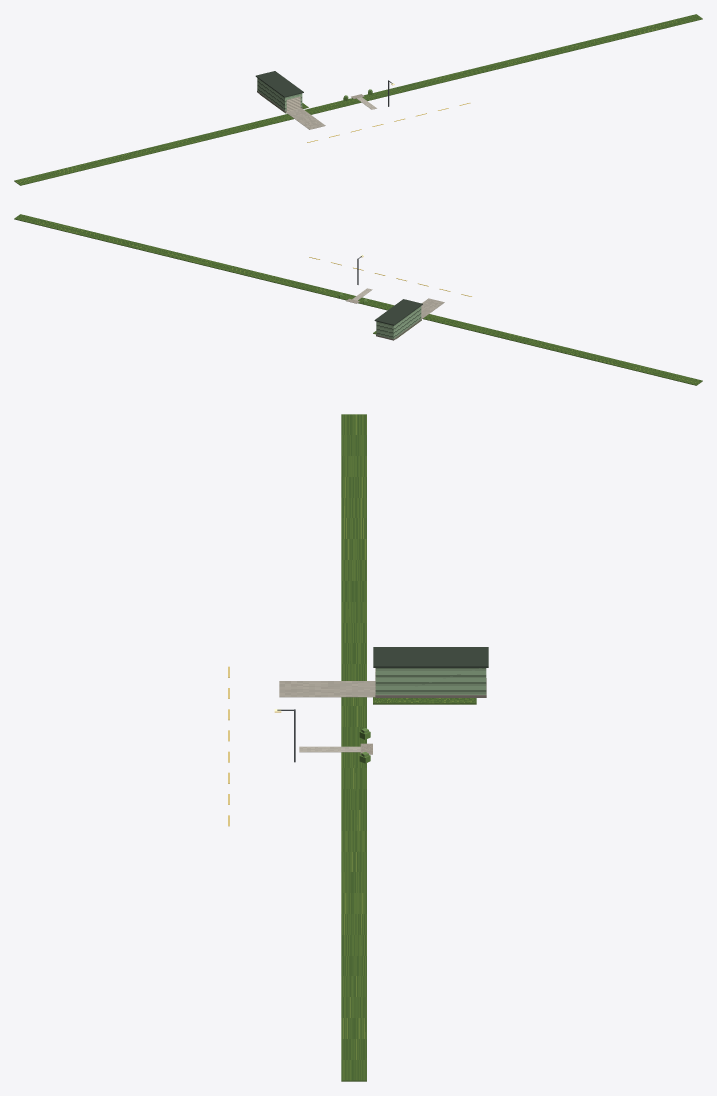
The model's file is structure.glb.
3 renders of one model, top to bottom at view 1: azimuth 30°, elevation 25°; view 2: azimuth 150°, elevation 25°; view 3: azimuth 270°, elevation 25°, orthographic. The views are drawn at different scales.
Parts seen in each view (by area): view 1: Box2, Box15, Box12, Box16; view 2: Box2, Box12, Box15; view 3: Box2, Box12, Box15, Box16.
Boxes of the visible parts, x1,y1,x2,y2 form: Box2: [14, 14, 702, 185]; Box15: [255, 71, 303, 97]; Box12: [257, 78, 302, 110]; Box16: [285, 108, 325, 129]; Box2: [14, 214, 702, 385]; Box12: [376, 306, 421, 338]; Box15: [374, 299, 422, 325]; Box2: [341, 414, 366, 1081]; Box12: [375, 668, 486, 694]; Box15: [373, 647, 488, 667]; Box16: [279, 681, 375, 697].
Size of the model in its own units: 126 by 4.72 by 20.76.
Materials: 13 (6 with a texture image).
